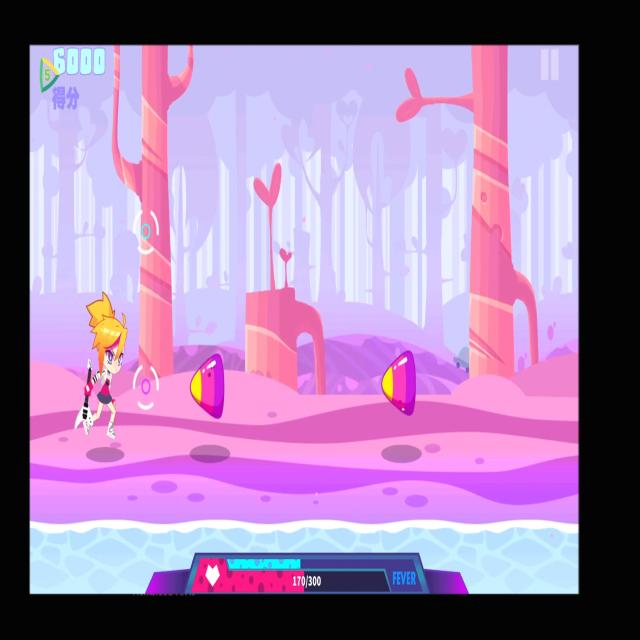jian: (379, 344, 424, 426), (188, 339, 228, 431)
